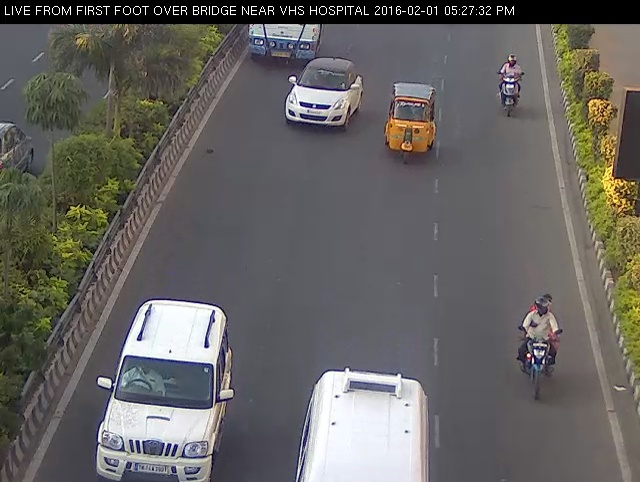Bus: (277, 353, 443, 482), (237, 4, 329, 66)
Car: (80, 294, 246, 480), (280, 52, 369, 135), (379, 70, 443, 172)
Person: (505, 282, 571, 411), (489, 52, 531, 123)
